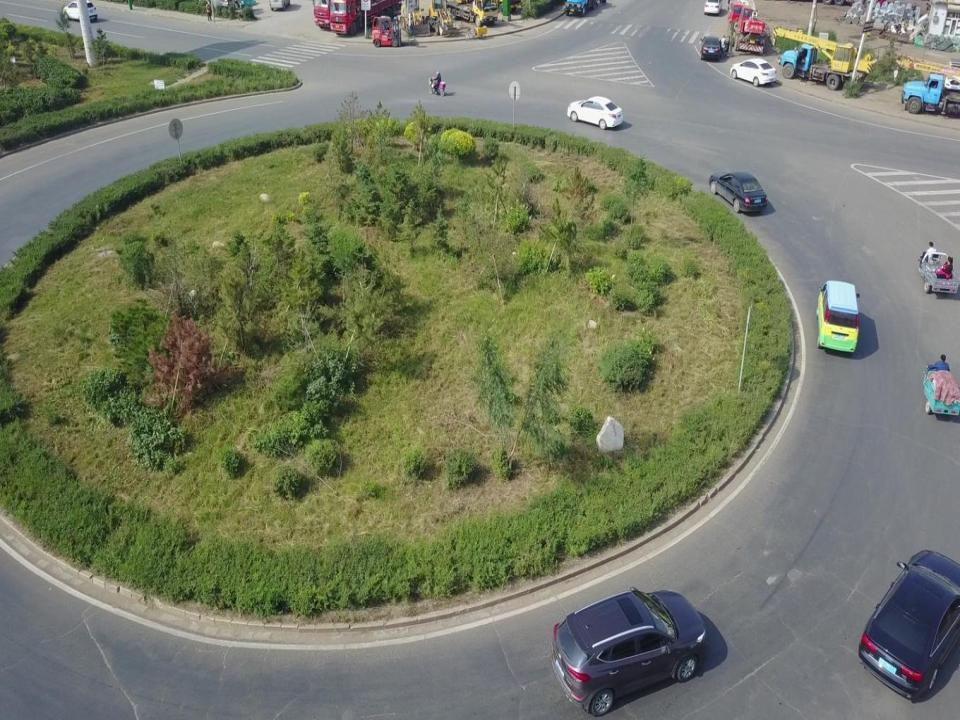car: (542, 584, 725, 714), (850, 538, 960, 705), (708, 162, 772, 217), (565, 90, 632, 131), (728, 56, 778, 90), (58, 0, 104, 27), (701, 27, 731, 63), (703, 0, 724, 19)
van: (811, 269, 865, 363)
